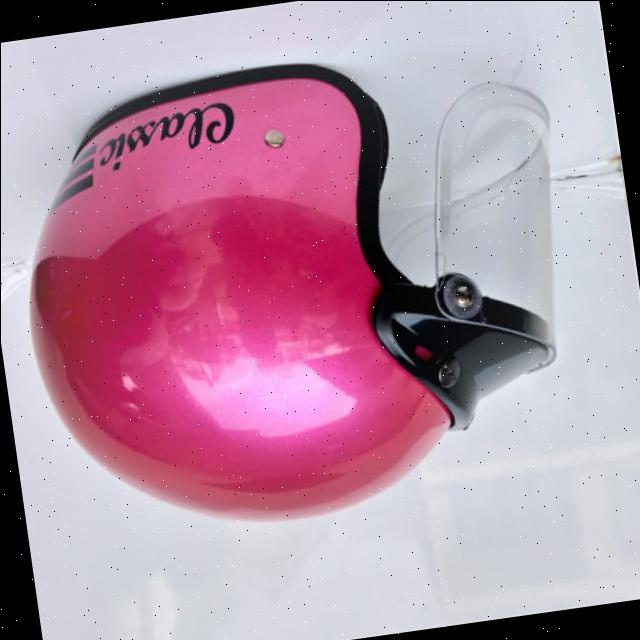Helm: (0, 24, 603, 557)
